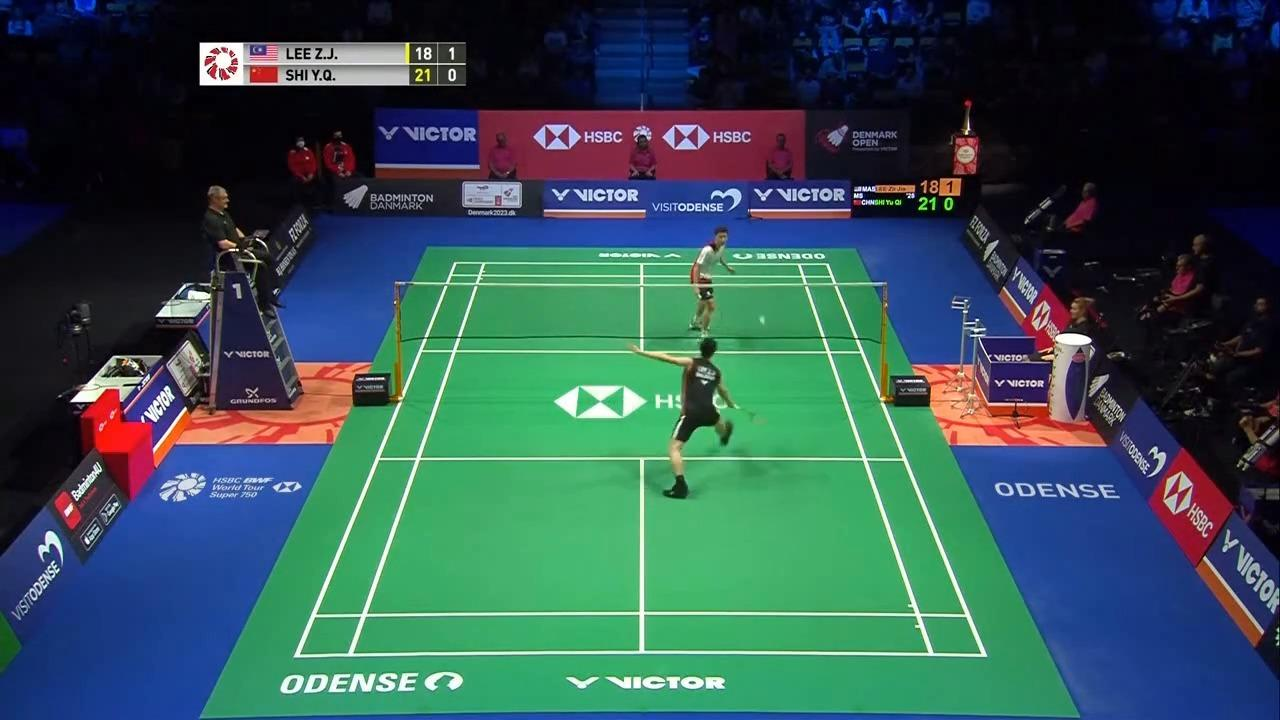shuttle: (758, 316, 768, 325)
